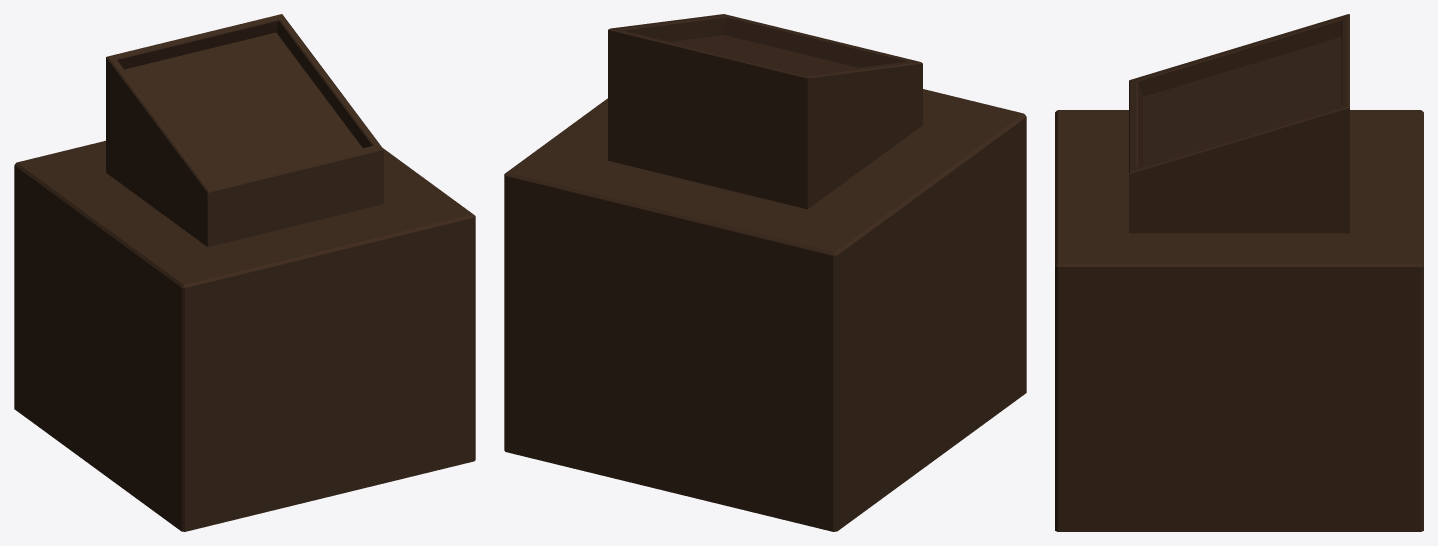
The model's file is vitrine.glb.
3 renders of one model, left to right at view 1: azimuth 30°, elevation 25°; view 2: azimuth 150°, elevation 25°; view 3: azimuth 270°, elevation 25°, orthographic. The views are drawn at different scales.
Visible parts, largest first — view 1: Vitrina_Joyas; view 2: Vitrina_Joyas; view 3: Vitrina_Joyas.
Boxes of the visible parts, box(x1,y1,x2,y2) form: Vitrina_Joyas: box(14, 14, 475, 531); Vitrina_Joyas: box(504, 14, 1026, 531); Vitrina_Joyas: box(1055, 14, 1423, 531).
Bounding box in the file's own units: 1 × 1.18 × 1.
